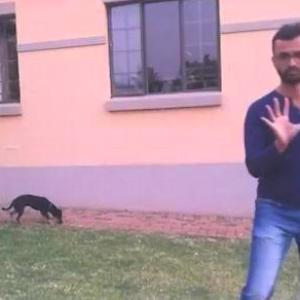follow_hand: (256, 88, 299, 166)
